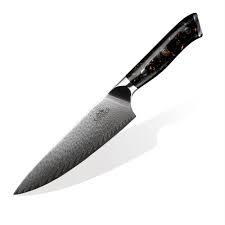Knife: (12, 11, 203, 195)
